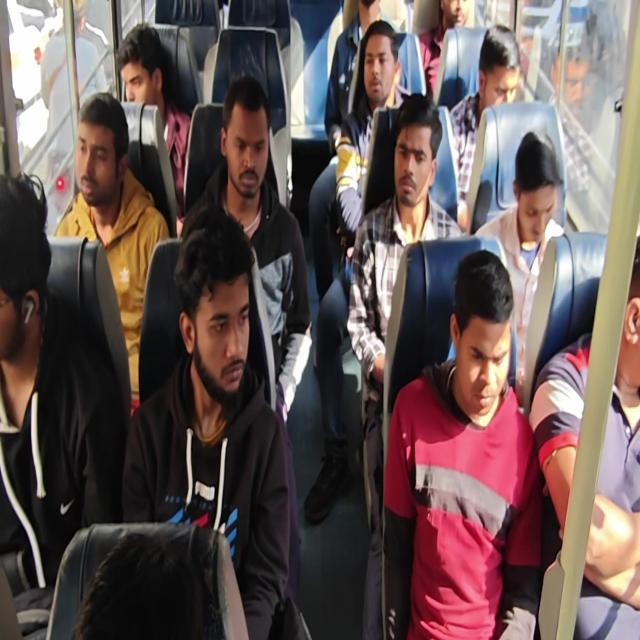person: (166, 218, 260, 402), (72, 523, 206, 640), (1, 168, 61, 389), (458, 251, 520, 430), (218, 74, 276, 210), (508, 115, 563, 251), (73, 92, 130, 216), (392, 102, 442, 207), (617, 228, 640, 422), (478, 27, 530, 107), (126, 32, 170, 112), (357, 22, 397, 104), (438, 0, 478, 31)
